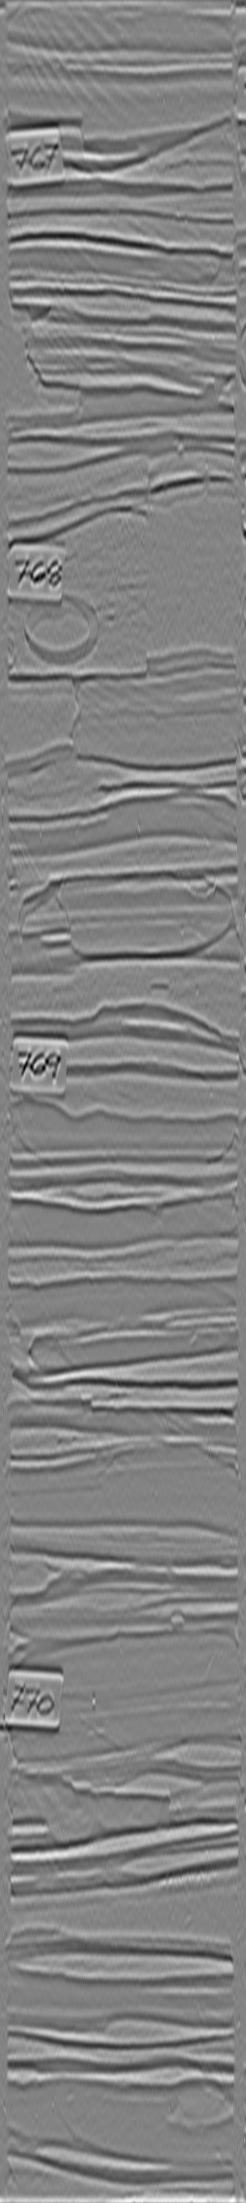hplug: (20, 586, 105, 667)
vplug: (138, 461, 226, 681)
